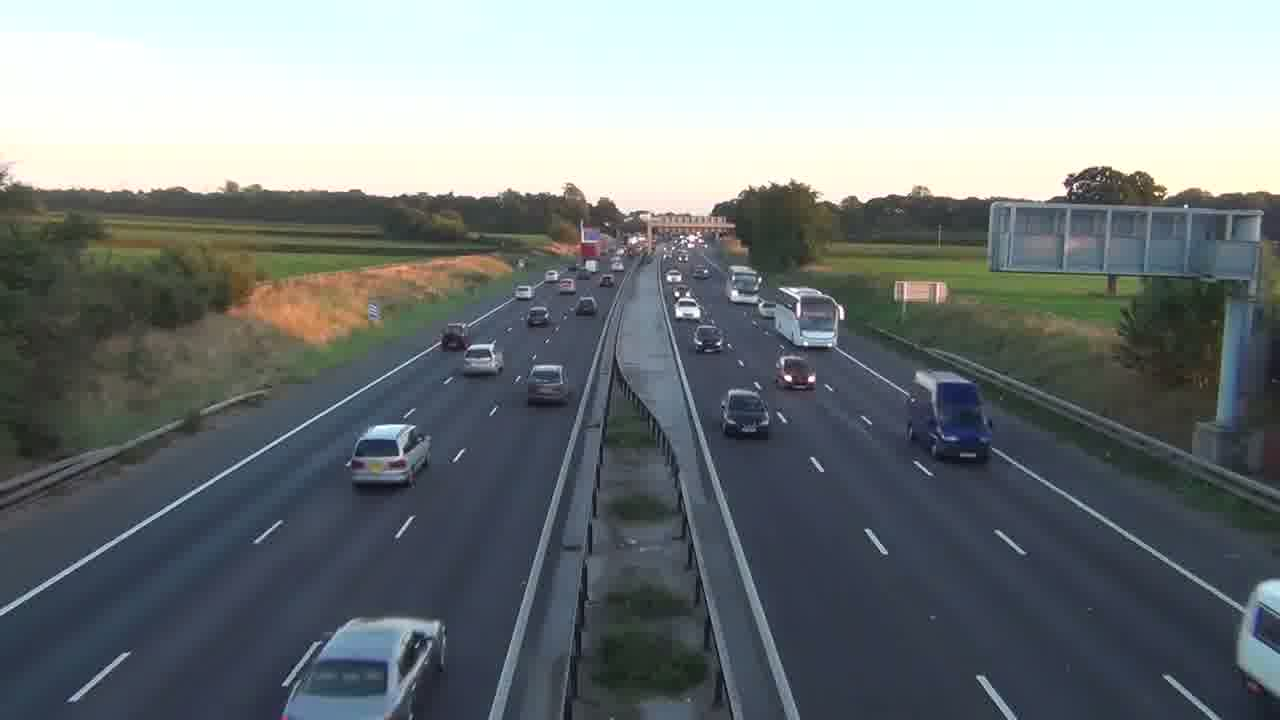bus: (773, 285, 845, 348)
car: (278, 615, 448, 718), (345, 423, 433, 488), (720, 388, 771, 439), (526, 363, 571, 405), (774, 354, 817, 390), (462, 341, 504, 376), (692, 322, 726, 355), (526, 305, 551, 327), (574, 296, 598, 316)
truck: (278, 615, 448, 718), (905, 369, 993, 463), (1234, 577, 1279, 713)
